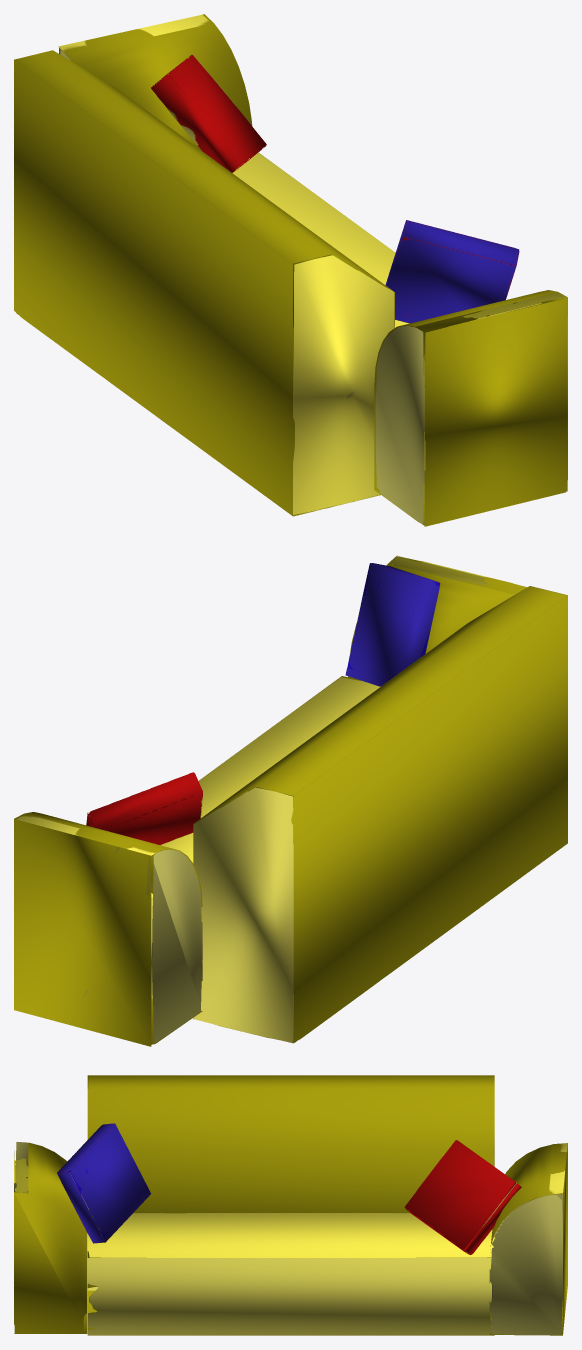
Rendered from Couch.fbx.
The picture shows the model from 3 angles, top to bottom: view 1: azimuth 30°, elevation 25°; view 2: azimuth 150°, elevation 25°; view 3: azimuth 270°, elevation 25°; orthographic projection. The views are drawn at different scales.
Visible parts, largest first — view 1: Cube; view 2: Cube; view 3: Cube.
Part boxes in pixels (x1,y1,x2,y2): Cube: [14, 14, 567, 526]; Cube: [14, 555, 567, 1046]; Cube: [14, 1075, 567, 1335].
Size of the model in its own units: 466 by 473 by 1292.
1 material, 1 textured.
